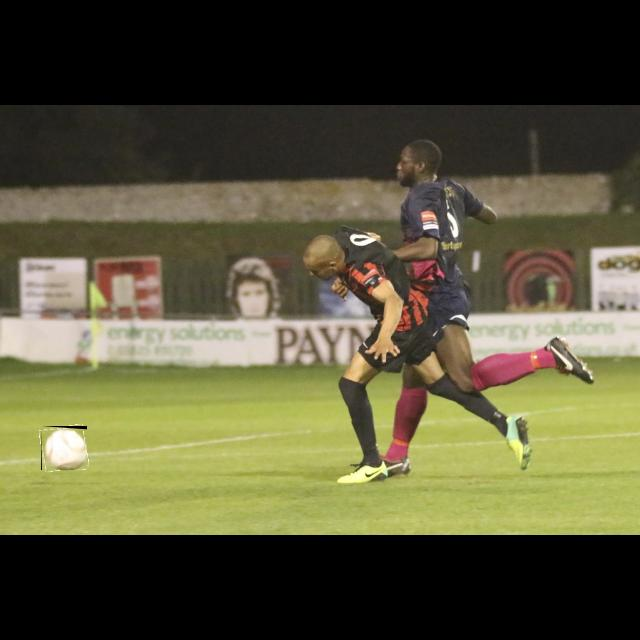Football: (41, 426, 87, 470)
